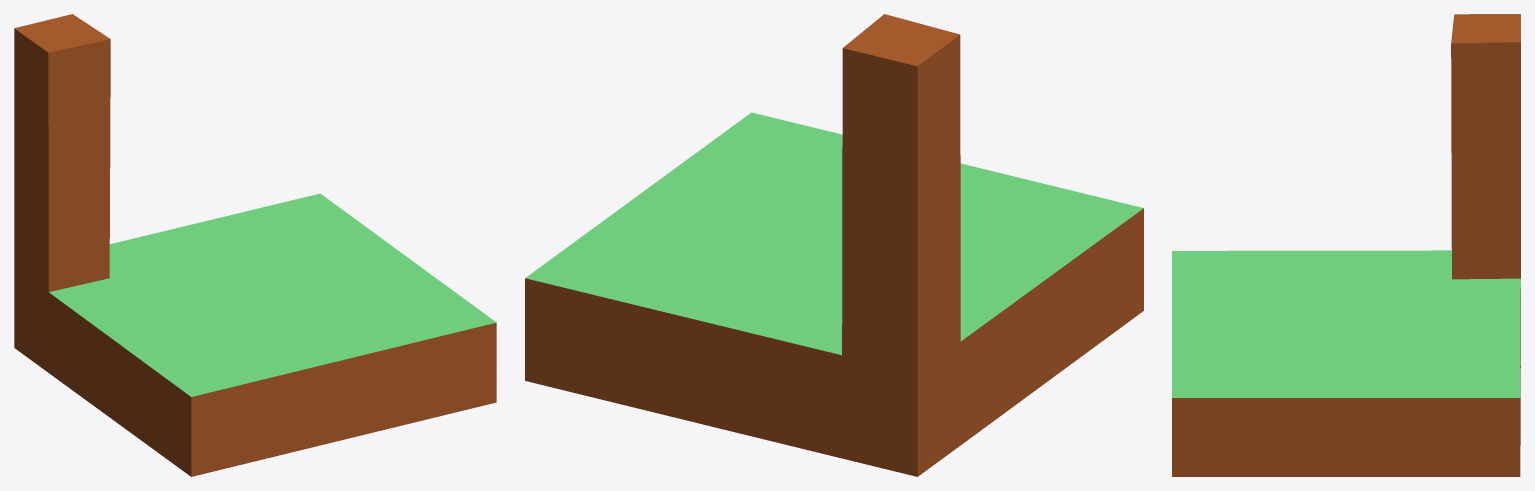
Rendered from cornerExterior.fbx.
The picture shows the model from 3 angles, left to right: view 1: azimuth 30°, elevation 25°; view 2: azimuth 150°, elevation 25°; view 3: azimuth 270°, elevation 25°; orthographic projection. The views are drawn at different scales.
Parts seen in each view (by area): view 1: cornerExt; view 2: cornerExt; view 3: cornerExt.
Part boxes in pixels (x1,y1,x2,y2): cornerExt: (14,14,496,476); cornerExt: (525,14,1143,476); cornerExt: (1172,14,1520,476).
Size of the model in its own units: 200 by 200 by 200.
